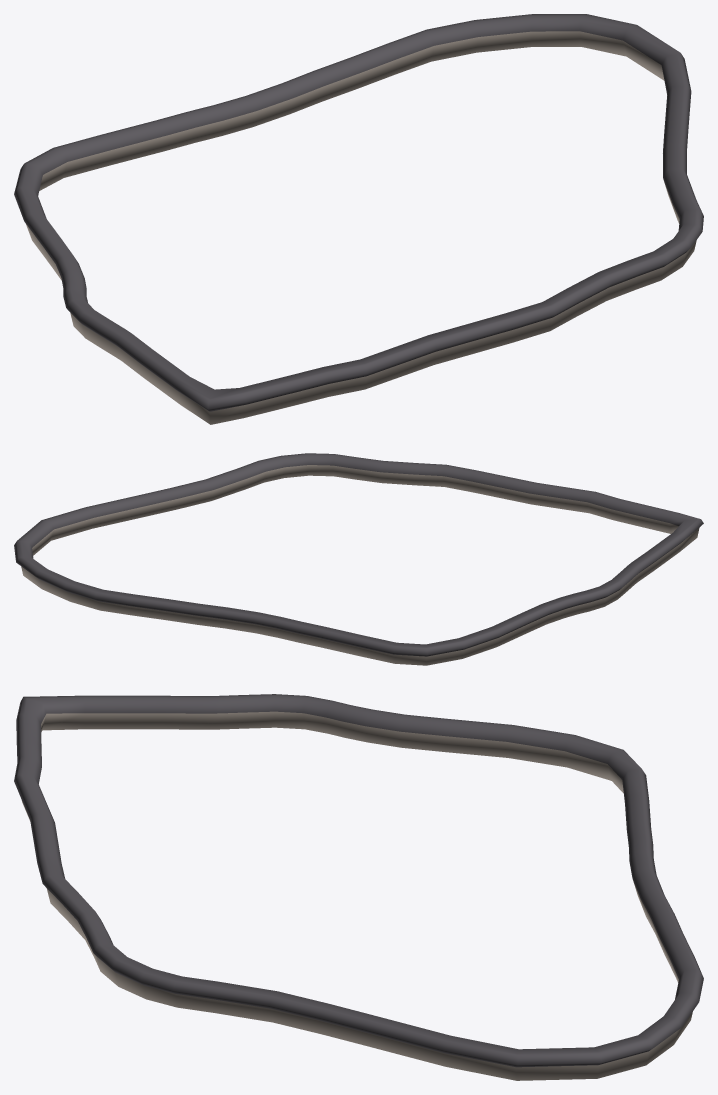
Rendered from SM_SkyIsland_PlainsBase.fbx.
The picture shows the model from 3 angles, top to bottom: view 1: azimuth 30°, elevation 25°; view 2: azimuth 150°, elevation 25°; view 3: azimuth 270°, elevation 25°; orthographic projection. The views are drawn at different scales.
Visible parts, largest first — view 1: BezierCircle.006; view 2: BezierCircle.006; view 3: BezierCircle.006.
Part boxes in pixels (x1,y1,x2,y2): BezierCircle.006: (14, 14, 703, 424); BezierCircle.006: (14, 453, 703, 665); BezierCircle.006: (14, 694, 703, 1080).
Bounding box in the file's own units: 923 × 33.3 × 736.
